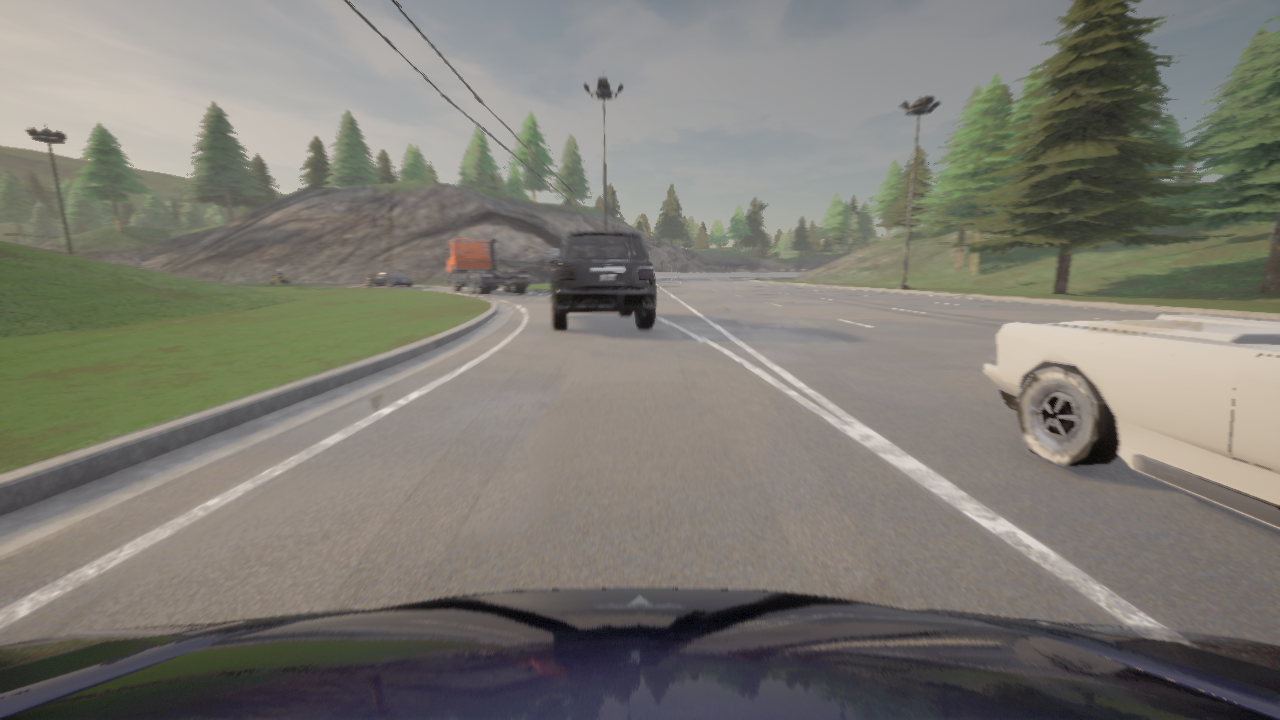cyclist: (0, 588, 1279, 719), (983, 315, 1279, 529), (547, 231, 656, 329), (443, 238, 530, 294), (365, 271, 412, 287), (270, 274, 291, 285)
